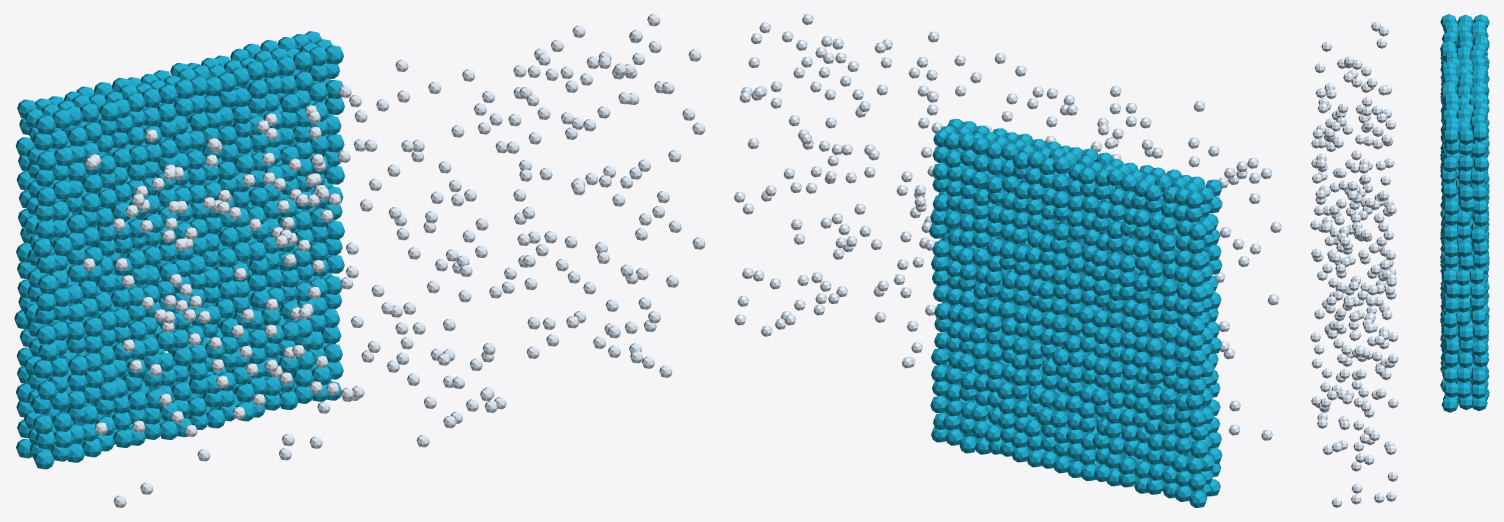
3 renders of one model, left to right at view 1: azimuth 30°, elevation 25°; view 2: azimuth 150°, elevation 25°; view 3: azimuth 270°, elevation 25°, orthographic. The views are drawn at different scales.
Parts seen in each view (by area): view 1: dam_break_splash; view 2: dam_break_splash; view 3: dam_break_splash.
Boxes of the visible parts, x1,y1,x2,y2 form: dam_break_splash: [14, 14, 705, 507]; dam_break_splash: [734, 14, 1281, 507]; dam_break_splash: [1310, 14, 1489, 507].
Size of the model in its own units: 7.2 by 4.19 by 2.31.
